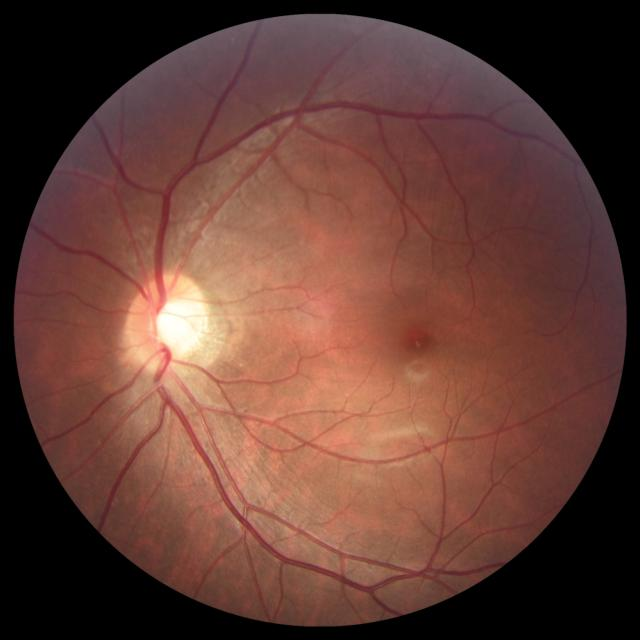OC: (153, 298, 202, 352)
OD: (124, 271, 210, 369)
